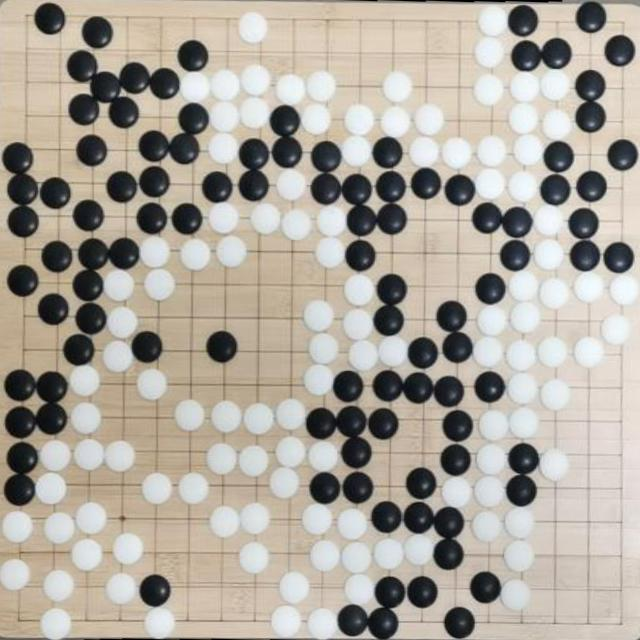blackstone: (72, 269, 106, 303), (139, 574, 172, 608), (74, 302, 107, 336), (4, 368, 37, 402), (37, 293, 70, 326), (108, 237, 141, 270), (35, 403, 68, 436), (5, 406, 38, 439), (7, 264, 39, 298), (73, 199, 105, 233), (8, 205, 40, 239), (36, 370, 68, 404), (6, 441, 38, 475), (67, 48, 98, 83), (206, 330, 238, 363), (76, 134, 108, 167), (309, 472, 341, 505), (106, 171, 138, 204), (68, 94, 100, 127), (574, 101, 606, 134), (505, 474, 537, 507), (139, 165, 171, 198), (178, 102, 210, 135), (508, 442, 540, 475), (540, 37, 572, 70), (370, 501, 402, 534), (168, 132, 200, 165), (78, 237, 110, 270), (310, 172, 342, 205), (374, 576, 406, 609), (346, 205, 378, 238), (403, 501, 435, 534), (119, 62, 151, 95), (337, 604, 369, 637), (8, 173, 40, 206), (604, 34, 635, 68), (131, 331, 163, 363), (603, 242, 635, 274), (63, 333, 95, 365), (42, 240, 74, 272), (474, 371, 506, 403), (137, 202, 169, 234), (202, 171, 234, 203), (82, 16, 114, 48), (373, 305, 405, 337), (40, 177, 72, 209), (436, 300, 468, 332), (305, 408, 337, 440), (470, 572, 502, 604), (442, 410, 474, 442), (4, 474, 36, 506), (342, 472, 374, 504), (34, 2, 66, 34), (238, 170, 270, 202), (403, 371, 435, 403), (444, 607, 476, 639), (272, 136, 304, 168), (433, 538, 465, 570), (340, 437, 372, 469), (341, 173, 373, 205), (90, 71, 122, 103), (433, 506, 465, 538), (367, 607, 399, 639), (178, 39, 209, 72), (109, 95, 140, 128), (332, 370, 363, 403), (511, 39, 542, 72), (139, 130, 170, 163), (502, 206, 533, 239), (433, 375, 464, 408), (3, 141, 34, 174), (540, 174, 571, 207), (475, 272, 506, 304), (172, 203, 203, 235), (607, 139, 638, 171), (444, 174, 475, 206), (568, 208, 599, 240), (376, 274, 408, 305), (368, 408, 399, 440), (472, 202, 503, 234), (441, 444, 472, 476), (149, 67, 180, 99), (575, 69, 606, 101), (576, 1, 607, 33), (311, 140, 342, 172), (377, 203, 408, 235), (239, 138, 270, 170), (508, 4, 538, 37), (576, 170, 606, 203), (500, 240, 531, 271), (270, 105, 301, 136), (442, 332, 473, 363), (570, 240, 600, 272), (544, 142, 574, 174), (406, 468, 436, 500), (373, 136, 403, 168), (408, 337, 438, 369), (408, 576, 438, 608), (374, 370, 404, 402), (376, 170, 406, 202), (336, 406, 366, 438), (346, 240, 376, 271), (411, 168, 441, 198)
whitestone: (34, 472, 68, 506), (70, 538, 104, 572), (39, 439, 72, 474), (73, 438, 106, 472), (75, 502, 108, 536), (1, 510, 34, 544), (105, 572, 138, 606), (103, 269, 136, 302), (102, 340, 135, 373), (473, 476, 506, 509), (40, 607, 73, 640), (211, 400, 243, 434), (243, 402, 275, 436), (70, 402, 102, 436), (208, 132, 240, 166), (533, 238, 565, 272), (478, 409, 510, 443), (142, 472, 174, 506), (104, 439, 136, 473), (507, 372, 539, 406), (209, 100, 241, 134), (238, 444, 270, 478), (239, 96, 271, 130), (337, 508, 369, 542), (112, 532, 144, 566), (278, 571, 310, 605), (44, 511, 76, 545), (270, 605, 302, 639), (174, 399, 206, 432), (106, 306, 138, 339), (208, 201, 240, 234), (136, 368, 168, 401), (180, 238, 212, 271), (303, 364, 335, 397), (144, 268, 176, 301), (340, 135, 372, 168), (216, 235, 248, 268), (180, 70, 212, 103), (508, 102, 540, 135), (177, 472, 209, 505), (209, 506, 241, 539), (476, 443, 508, 476), (601, 314, 633, 347), (538, 448, 570, 481), (470, 511, 502, 544), (341, 541, 373, 574), (43, 569, 75, 602), (344, 573, 376, 606), (373, 538, 405, 571), (306, 607, 338, 640), (144, 607, 176, 640), (540, 378, 571, 412), (206, 442, 237, 476), (210, 68, 241, 102), (0, 557, 30, 592), (139, 236, 171, 268), (69, 364, 101, 396), (538, 278, 570, 310), (306, 70, 338, 102), (300, 103, 332, 135), (573, 271, 605, 303), (472, 336, 504, 368), (275, 436, 307, 468), (281, 208, 313, 240), (508, 407, 540, 439), (505, 340, 537, 372), (573, 336, 605, 368), (301, 503, 333, 535), (441, 476, 473, 508), (238, 542, 270, 574), (504, 507, 536, 539), (403, 534, 435, 566), (276, 169, 307, 202), (414, 103, 445, 136), (533, 205, 564, 238), (240, 64, 271, 97), (508, 170, 539, 203), (509, 71, 540, 104), (310, 539, 341, 572), (504, 539, 535, 572), (500, 579, 531, 612), (276, 398, 306, 432), (542, 108, 572, 142), (240, 502, 270, 536), (344, 274, 375, 306), (250, 202, 281, 234), (308, 333, 339, 365), (409, 136, 440, 168), (315, 236, 346, 268), (344, 104, 375, 136), (473, 74, 504, 106), (475, 168, 506, 200), (476, 305, 508, 336), (275, 73, 306, 105), (474, 37, 505, 69), (348, 340, 379, 372), (308, 440, 339, 472), (378, 336, 409, 368), (540, 69, 571, 101), (269, 467, 300, 499), (442, 136, 472, 169), (344, 308, 374, 341), (609, 274, 639, 307), (380, 106, 411, 137), (510, 301, 541, 332), (477, 135, 507, 167), (382, 71, 412, 103), (538, 336, 568, 368), (317, 205, 347, 237), (508, 270, 538, 302), (238, 12, 268, 44), (305, 300, 334, 333), (514, 133, 544, 164), (478, 5, 508, 36)
